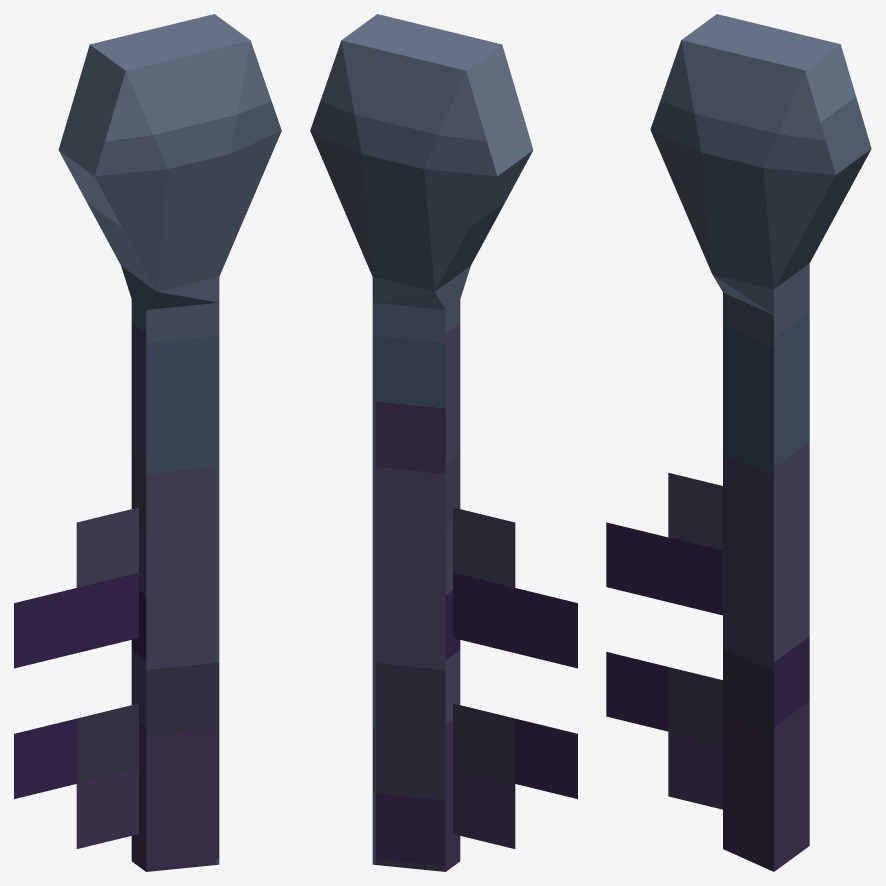
The model's file is Key.gltf.
3 renders of one model, left to right at view 1: azimuth 30°, elevation 25°; view 2: azimuth 150°, elevation 25°; view 3: azimuth 330°, elevation 25°, orthographic.
Parts seen in each view (by area): view 1: KeyBody, KeyTeeth; view 2: KeyBody, KeyTeeth; view 3: KeyBody, KeyTeeth.
Part boxes in pixels (x1,y1,x2,y2): KeyBody: (58, 14, 281, 871); KeyTeeth: (14, 507, 138, 848); KeyBody: (310, 14, 533, 871); KeyTeeth: (453, 507, 577, 848); KeyBody: (650, 14, 871, 871); KeyTeeth: (606, 473, 722, 809).
Bounding box in the file's own units: 0.25 × 0.7812 × 0.1.
Materials: 1 (1 with a texture image).
